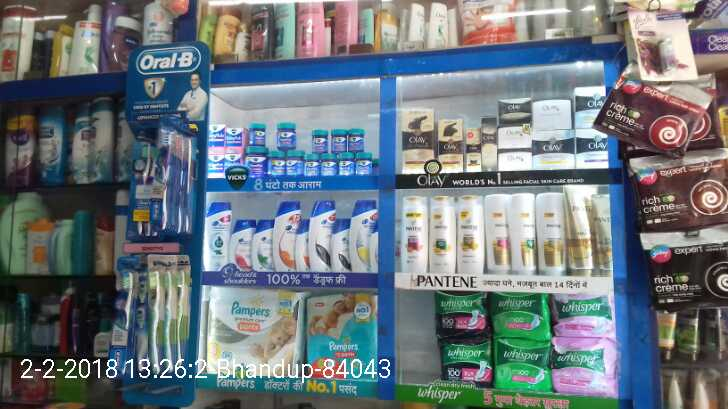oralcare: (104, 40, 208, 389)
vicks: (207, 121, 379, 174)
